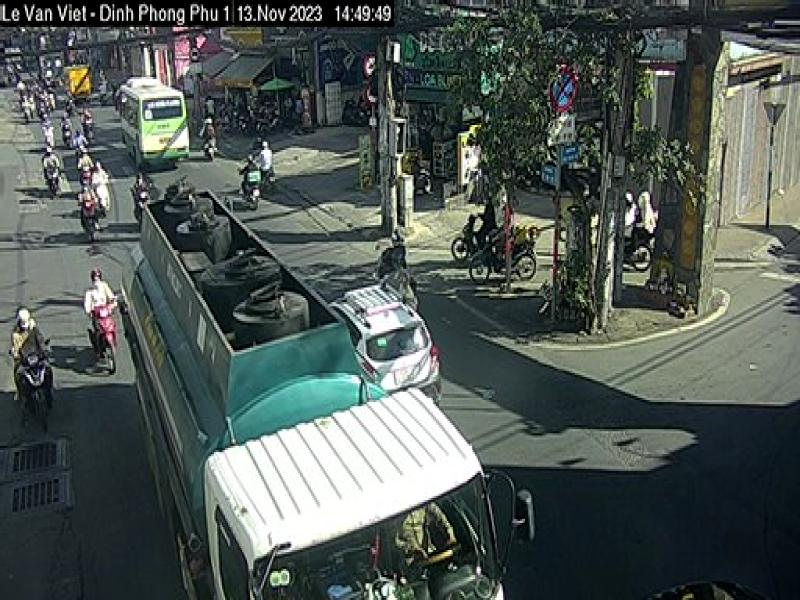bus: (110, 73, 194, 179)
truck: (197, 381, 534, 600)
